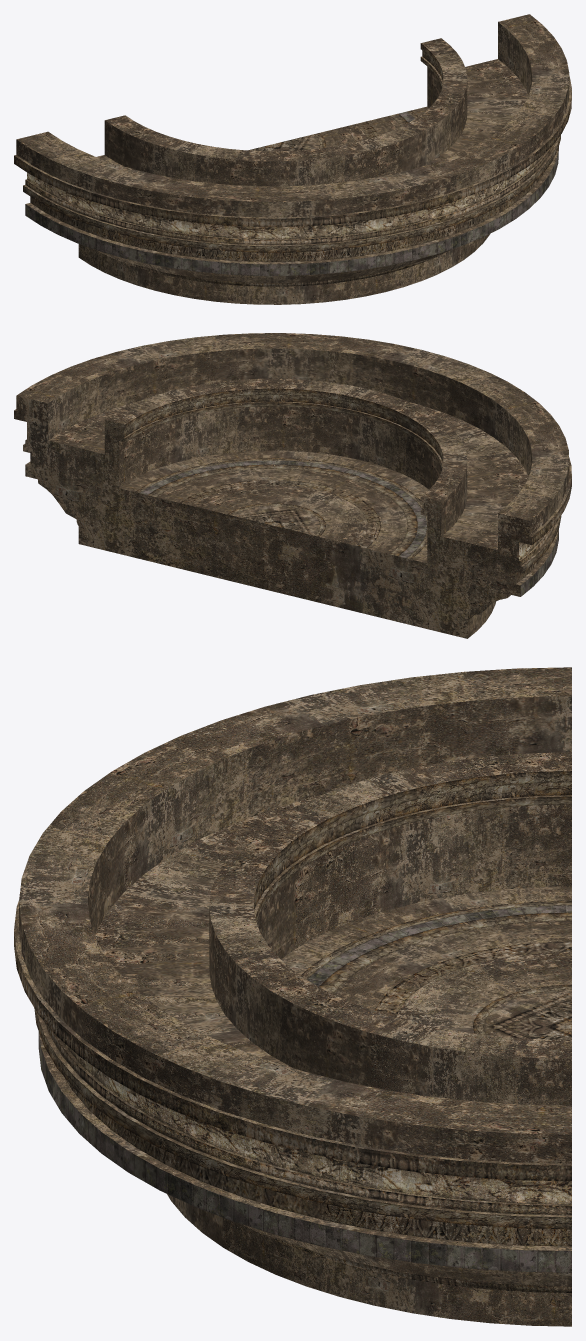
Rendered from materials_5_balcony_3.fbx.
The picture shows the model from 3 angles, top to bottom: view 1: azimuth 30°, elevation 25°; view 2: azimuth 150°, elevation 25°; view 3: azimuth 270°, elevation 25°; orthographic projection. The views are drawn at different scales.
Parts seen in each view (by area): view 1: materials_5_balcony_3; view 2: materials_5_balcony_3; view 3: materials_5_balcony_3.
Boxes of the visible parts, x1=… form: materials_5_balcony_3: x1=14, y1=14, x2=571, y2=304; materials_5_balcony_3: x1=14, y1=333, x2=571, y2=638; materials_5_balcony_3: x1=14, y1=667, x2=571, y2=1326.
Size of the model in its own units: 544 by 134 by 272.
